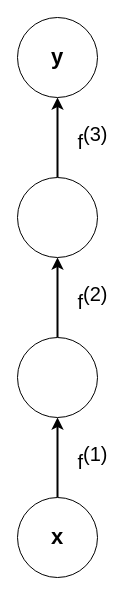
This 135x595 diagram has some shape labels left out. Here are the shapes that lost their labels. From the top down, the centre of each, then its label:
[57,217]: u (2)
[57,377]: u (1)
